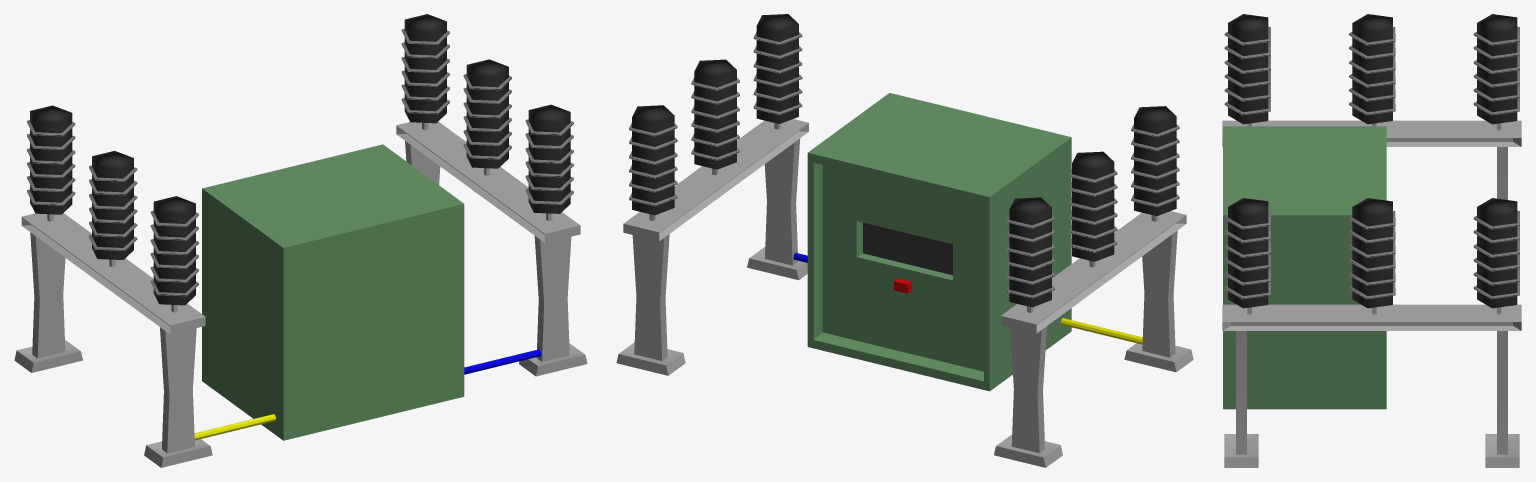
Rendered from Power_Station.fbx.
3 views of the same model, side by side, from view 1: azimuth 30°, elevation 25°; view 2: azimuth 150°, elevation 25°; view 3: azimuth 270°, elevation 25° (orthographic).
Visible parts, largest first — view 1: Electric_Station, Coil_Stand2, Coil_Stand1, Coil3, Coil5, Coil1, Coil, Coil2, Coil4, Power_Cable1, Power_Cable; view 2: Electric_Station, Coil_Stand2, Coil_Stand1, Coil4, Coil5, Coil, Coil1, Coil2, Coil3, Power_Cable1; view 3: Electric_Station, Coil_Stand1, Coil_Stand2, Coil1, Coil4, Coil2, Coil5, Coil, Coil3.
Boxes of the visible parts, left/top/right/bottom form: Electric_Station: left=202, top=144, right=464, bottom=440; Coil_Stand2: left=14, top=213, right=212, bottom=467; Coil_Stand1: left=396, top=121, right=587, bottom=376; Coil3: left=27, top=105, right=75, bottom=214; Coil5: left=150, top=196, right=198, bottom=305; Coil1: left=463, top=59, right=511, bottom=168; Coil: left=401, top=14, right=449, bottom=123; Coil2: left=525, top=104, right=573, bottom=213; Coil4: left=89, top=151, right=137, bottom=259; Power_Cable1: left=194, top=414, right=275, bottom=440; Power_Cable: left=464, top=349, right=541, bottom=374; Electric_Station: left=807, top=93, right=1071, bottom=391; Coil_Stand2: left=994, top=211, right=1193, bottom=467; Coil_Stand1: left=616, top=119, right=808, bottom=375; Coil4: left=1069, top=151, right=1117, bottom=261; Coil5: left=1131, top=106, right=1179, bottom=215; Coil: left=629, top=105, right=677, bottom=215; Coil1: left=691, top=59, right=739, bottom=169; Coil2: left=753, top=14, right=802, bottom=123; Coil3: left=1006, top=197, right=1054, bottom=307; Power_Cable1: left=1060, top=318, right=1142, bottom=344; Electric_Station: left=1223, top=126, right=1386, bottom=409; Coil_Stand1: left=1222, top=304, right=1521, bottom=467; Coil_Stand2: left=1222, top=120, right=1521, bottom=199; Coil1: left=1349, top=198, right=1395, bottom=308; Coil4: left=1349, top=14, right=1395, bottom=124; Coil2: left=1224, top=198, right=1270, bottom=308; Coil5: left=1224, top=14, right=1270, bottom=124; Coil: left=1473, top=198, right=1519, bottom=308; Coil3: left=1473, top=14, right=1519, bottom=124.
Size of the model in its own units: 6.62 by 3.7 by 4.
